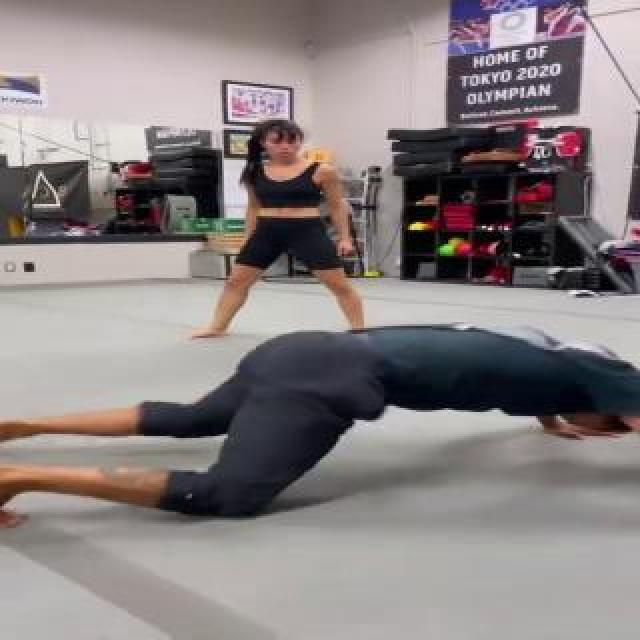fight: (102, 67, 628, 561)
